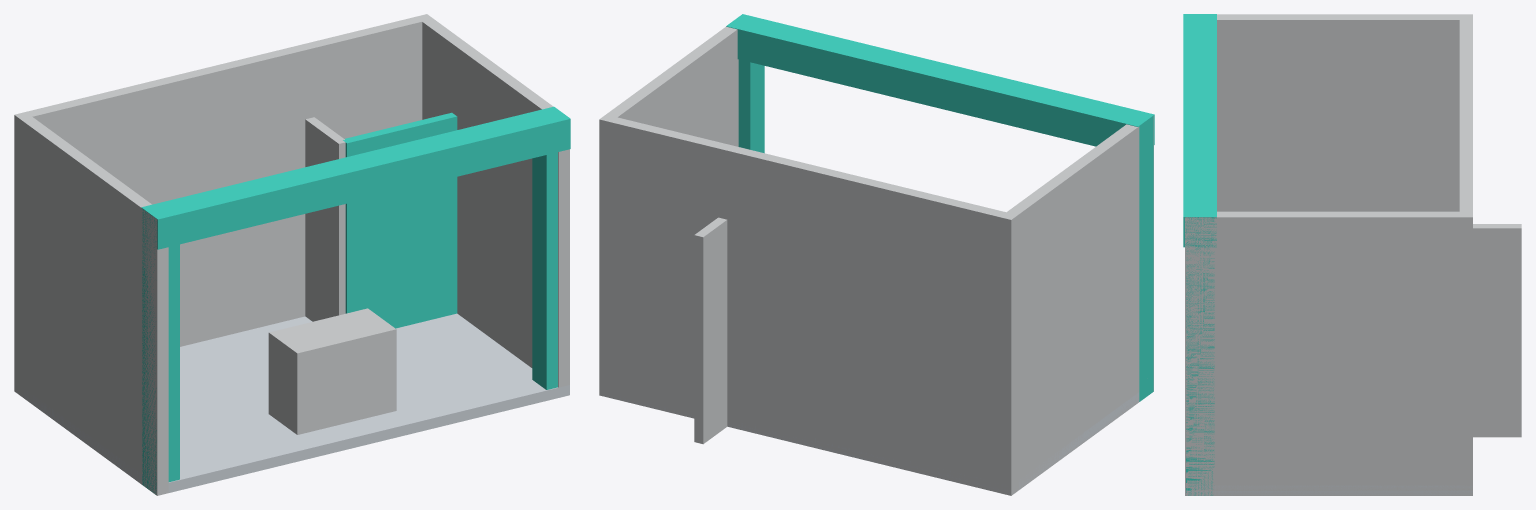
3 renders of one model, left to right at view 1: azimuth 30°, elevation 25°; view 2: azimuth 150°, elevation 25°; view 3: azimuth 270°, elevation 25°, orthographic.
Parts seen in each view (by area): view 1: Exhibition Booth Concept; view 2: Exhibition Booth Concept; view 3: Exhibition Booth Concept.
Boxes of the visible parts, left/top/right/bottom form: Exhibition Booth Concept: left=14, top=14, right=570, bottom=495; Exhibition Booth Concept: left=599, top=14, right=1154, bottom=495; Exhibition Booth Concept: left=1183, top=14, right=1521, bottom=495.
Size of the model in its own units: 5 by 3.2 by 3.52.
